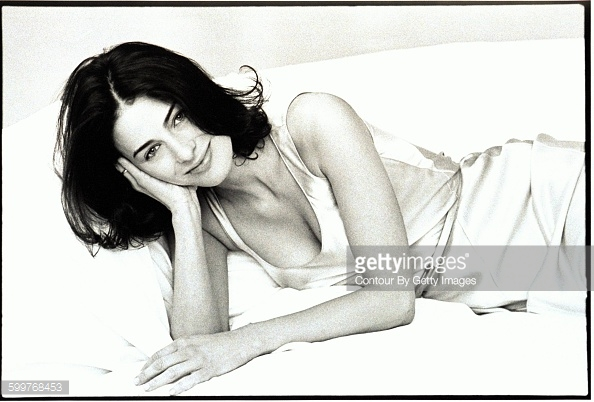deitado: (29, 25, 514, 392)
